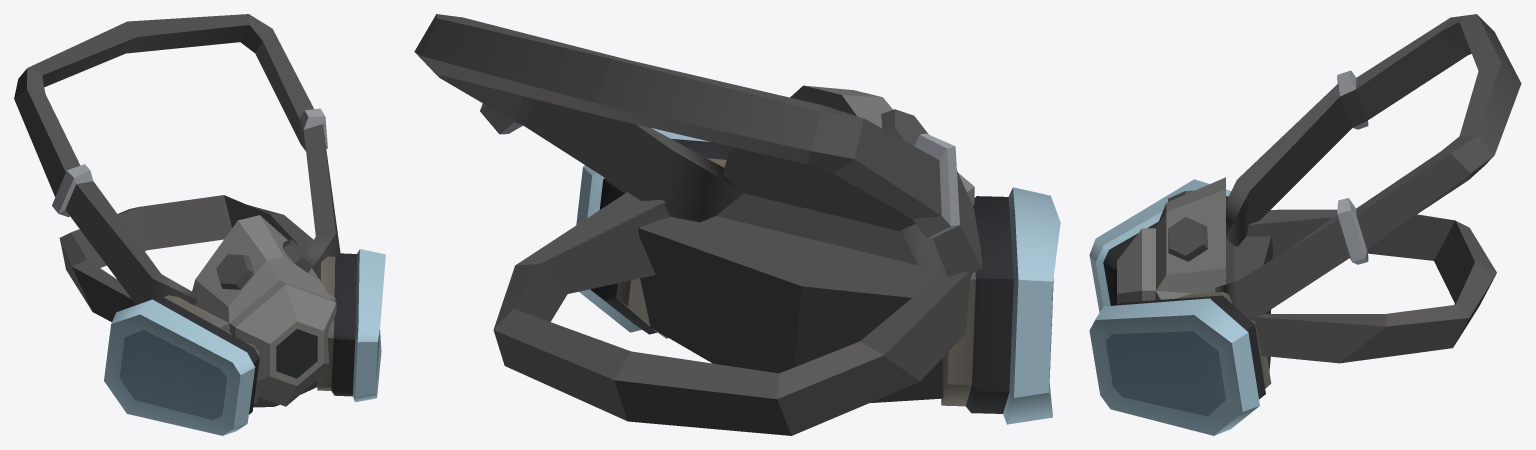
Rendered from SM_Chr_Attach_FilterMask_01.fbx.
The picture shows the model from 3 angles, left to right: view 1: azimuth 30°, elevation 25°; view 2: azimuth 150°, elevation 25°; view 3: azimuth 270°, elevation 25°; orthographic projection. The views are drawn at different scales.
Visible parts, largest first — view 1: SM_Chr_Attach_FilterMask_01; view 2: SM_Chr_Attach_FilterMask_01; view 3: SM_Chr_Attach_FilterMask_01.
Part boxes in pixels (bbox=[...]): SM_Chr_Attach_FilterMask_01: bbox=[14, 14, 385, 435]; SM_Chr_Attach_FilterMask_01: bbox=[414, 14, 1060, 435]; SM_Chr_Attach_FilterMask_01: bbox=[1089, 14, 1521, 435].
Bounding box in the file's own units: 28.53 × 28.29 × 34.27.
